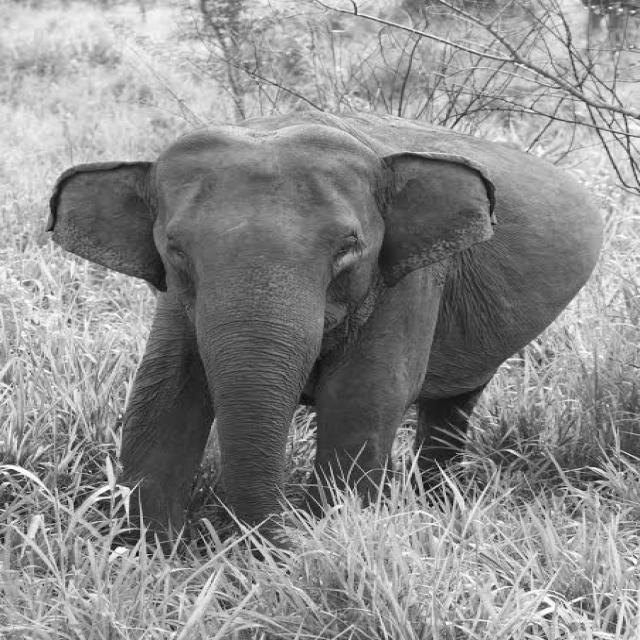Elephant: (34, 66, 610, 572)
